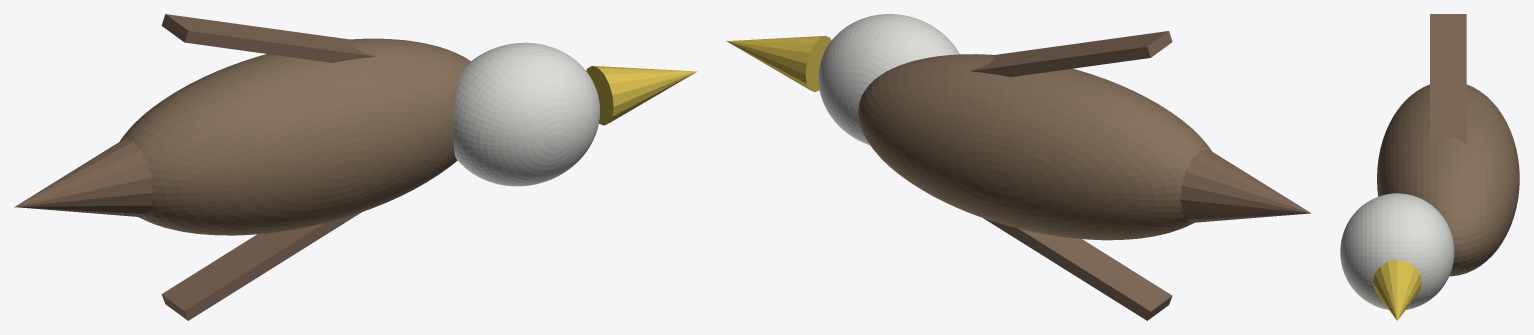
The model's file is aguila.glb.
3 renders of one model, left to right at view 1: azimuth 30°, elevation 25°; view 2: azimuth 150°, elevation 25°; view 3: azimuth 270°, elevation 25°, orthographic. The views are drawn at different scales.
Parts seen in each view (by area): view 1: part0, part1, part5, part4, part3, part2; view 2: part0, part1, part5, part4, part3, part2; view 3: part0, part1, part3, part2.
Part boxes in pixels (x1,y1,x2,y2): part0: (120, 38, 470, 235); part1: (453, 42, 600, 186); part5: (14, 138, 153, 217); part4: (161, 212, 361, 320); part3: (161, 14, 374, 62); part2: (586, 66, 696, 125); part0: (858, 54, 1211, 240); part1: (818, 14, 959, 144); part5: (1180, 149, 1310, 222); part4: (983, 218, 1172, 320); part3: (971, 31, 1172, 76); part2: (726, 35, 831, 92); part0: (1377, 84, 1519, 276); part1: (1340, 193, 1454, 309); part3: (1430, 14, 1466, 143); part2: (1373, 260, 1421, 320).
Size of the model in its own units: 2.95 by 1.26 by 0.88.
